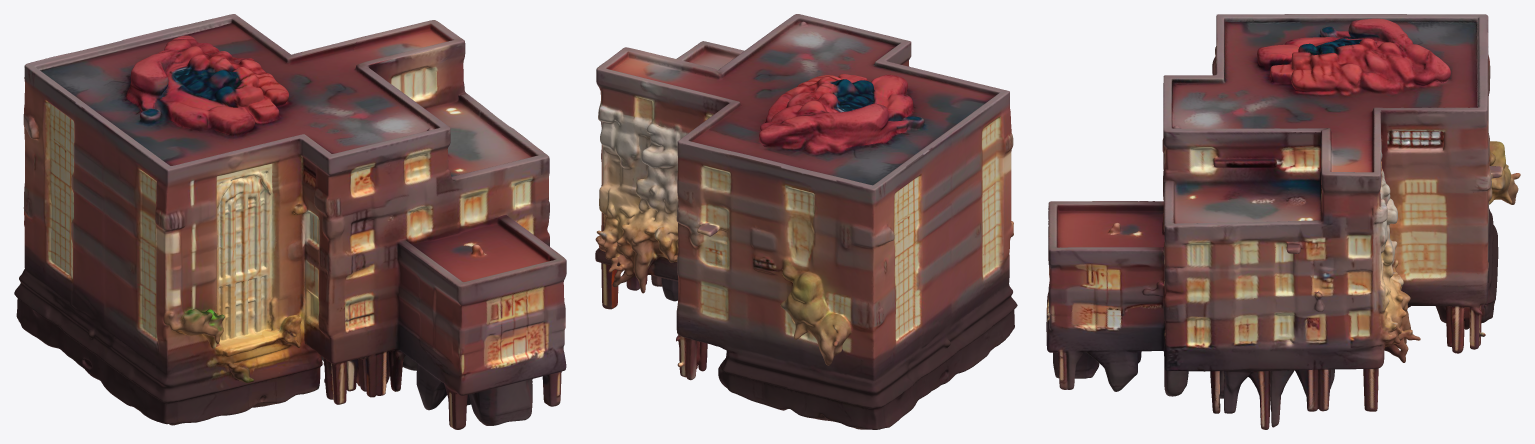
The model's file is example1.glb.
The picture shows the model from 3 angles, left to right: view 1: azimuth 30°, elevation 25°; view 2: azimuth 150°, elevation 25°; view 3: azimuth 270°, elevation 25°; orthographic projection. The views are drawn at different scales.
Parts seen in each view (by area): view 1: tripo_node_6cca19fe-77e5-44d3-bed8-c7c3a2484ce7; view 2: tripo_node_6cca19fe-77e5-44d3-bed8-c7c3a2484ce7; view 3: tripo_node_6cca19fe-77e5-44d3-bed8-c7c3a2484ce7.
Part boxes in pixels (box(x1,y1,x2,y2)): tripo_node_6cca19fe-77e5-44d3-bed8-c7c3a2484ce7: box(14, 14, 566, 429); tripo_node_6cca19fe-77e5-44d3-bed8-c7c3a2484ce7: box(595, 14, 1017, 429); tripo_node_6cca19fe-77e5-44d3-bed8-c7c3a2484ce7: box(1046, 14, 1520, 429).
Size of the model in its own units: 0.8611 by 0.6575 by 1.
Materials: 1 (1 with a texture image).
